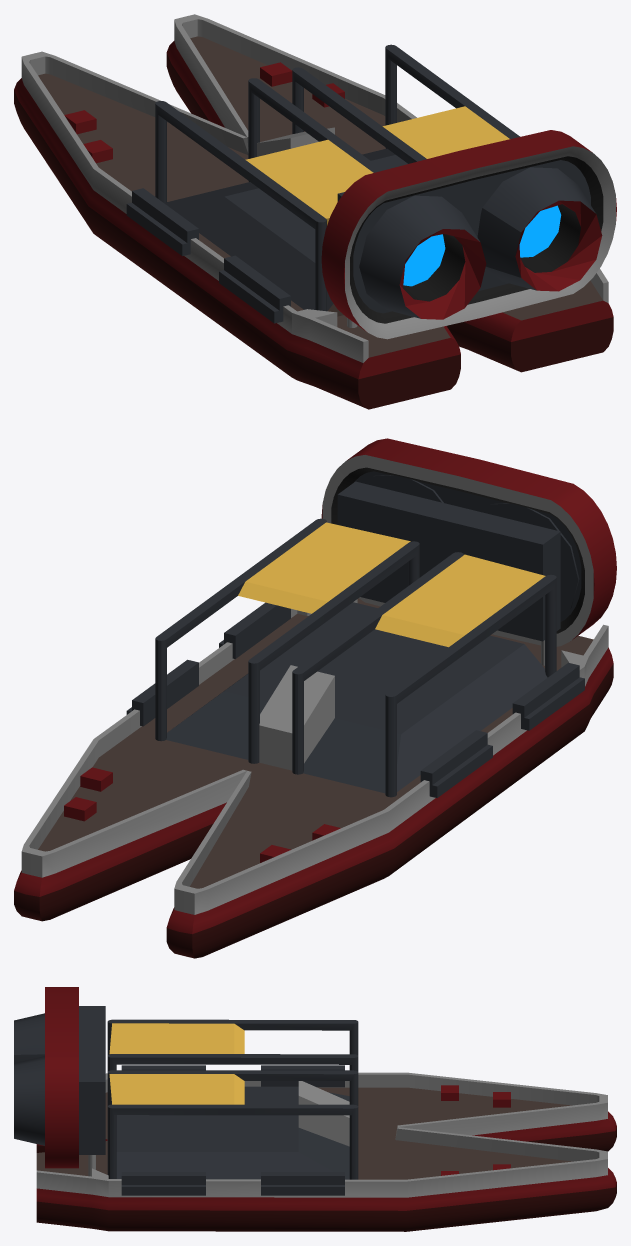
File: LobbyBoat.glb
The picture shows the model from 3 angles, top to bottom: view 1: azimuth 30°, elevation 25°; view 2: azimuth 150°, elevation 25°; view 3: azimuth 270°, elevation 25°; orthographic projection. The views are drawn at different scales.
Visible parts, largest first — view 1: LobbyBoat; view 2: LobbyBoat; view 3: LobbyBoat.
Boxes of the visible parts, x1=… form: LobbyBoat: x1=14, y1=14, x2=616, y2=409; LobbyBoat: x1=14, y1=438, x2=616, y2=958; LobbyBoat: x1=14, y1=987, x2=616, y2=1231.
Size of the model in its own units: 16.28 by 10.49 by 36.21.
